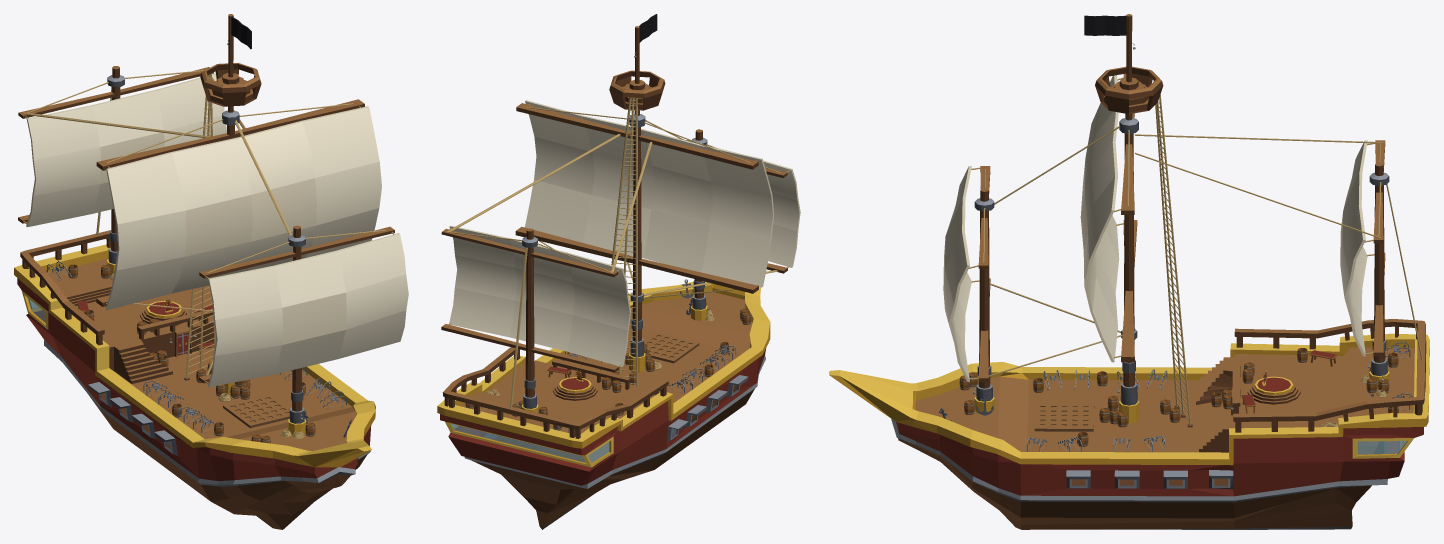
File: galleon.glb
3 renders of one model, left to right at view 1: azimuth 30°, elevation 25°; view 2: azimuth 150°, elevation 25°; view 3: azimuth 270°, elevation 25°, orthographic. The views are drawn at different scales.
Parts seen in each view (by area): view 1: galleon; view 2: galleon; view 3: galleon.
Part boxes in pixels (left/top/right/bottom): galleon: left=14, top=14, right=408, bottom=529; galleon: left=437, top=14, right=800, bottom=529; galleon: left=829, top=14, right=1429, bottom=529.
Bounding box in the file's own units: 20.82 × 36.31 × 38.44.
